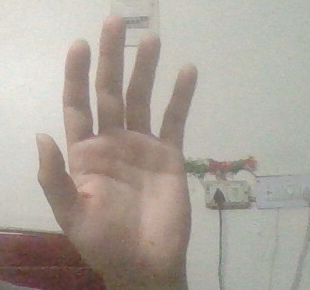move: (37, 13, 200, 280)
